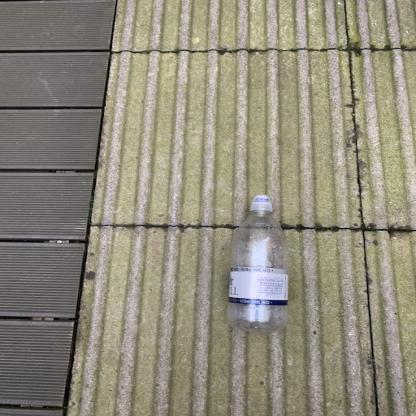trash: (225, 191, 290, 333)
